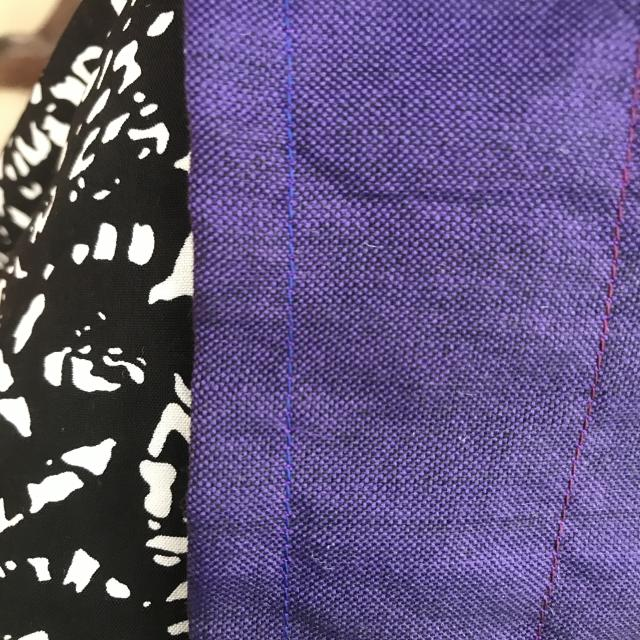good: (270, 453, 303, 615), (550, 419, 583, 575), (278, 212, 301, 402)
